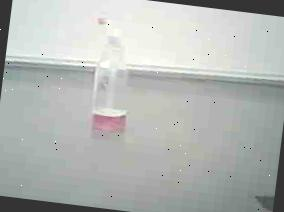hazard: (82, 12, 142, 140)
